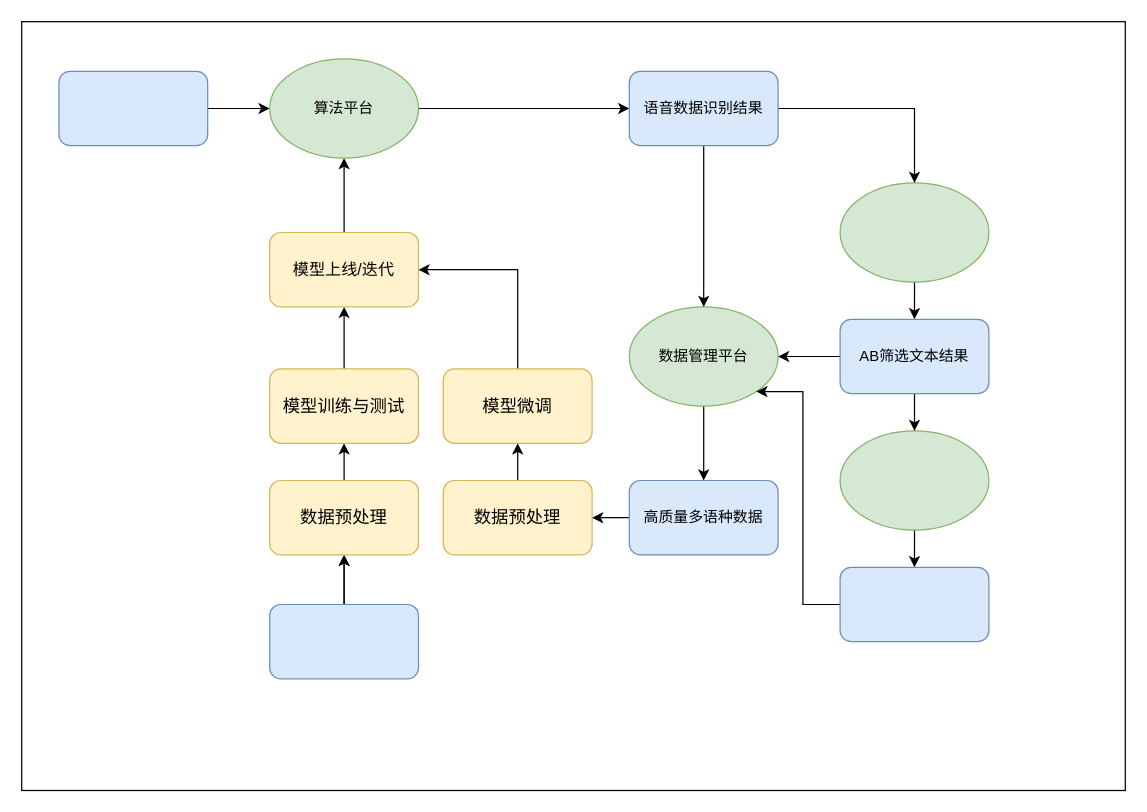
Some shapes in this 1147 by 812 pixel diagram are drawn without their labels. Each missing label, with the centre of its shape:
"AB测试平台" goes at pixel 914 232.
"人工标注平台" goes at pixel 914 480.
"人工标注结果" goes at pixel 914 604.
"多语种待识别数据" goes at pixel 133 108.
"多语种数据" goes at pixel 343 641.
